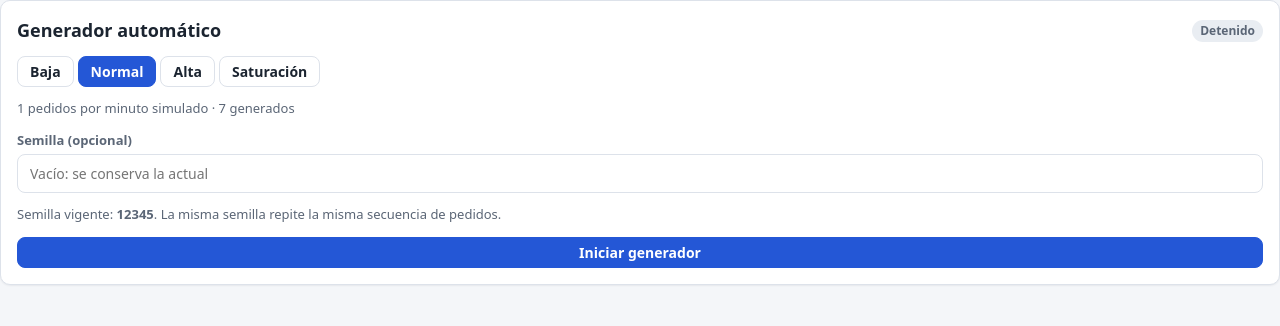
Test case: GeneratorPanel › refuses to start with a seed that is not an integer
Type "abc" into the field labelled "Semilla (opcional)" at (640, 174), box [17,154,1263,193]
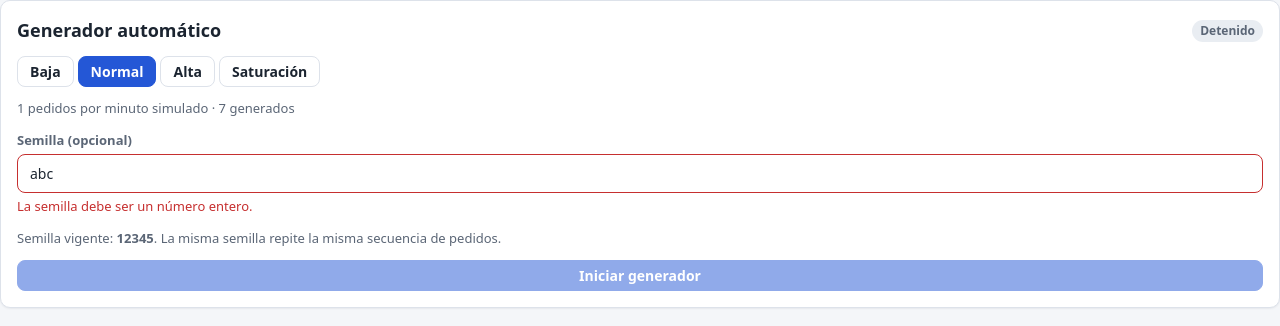
Now the message shows "entero", box [17,197,252,215]
Now the button "Iniciar generador" is disabled, box [17,260,1263,291]
